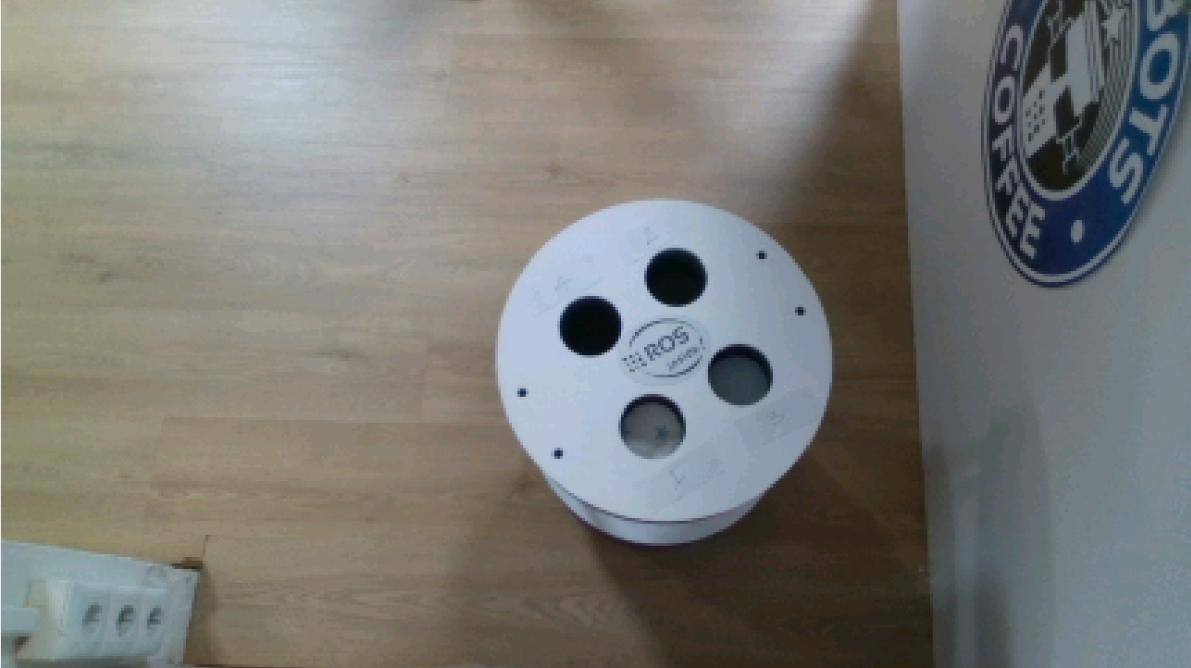hole: (616, 389, 691, 462), (555, 289, 626, 359), (705, 339, 773, 408), (642, 244, 709, 312)
